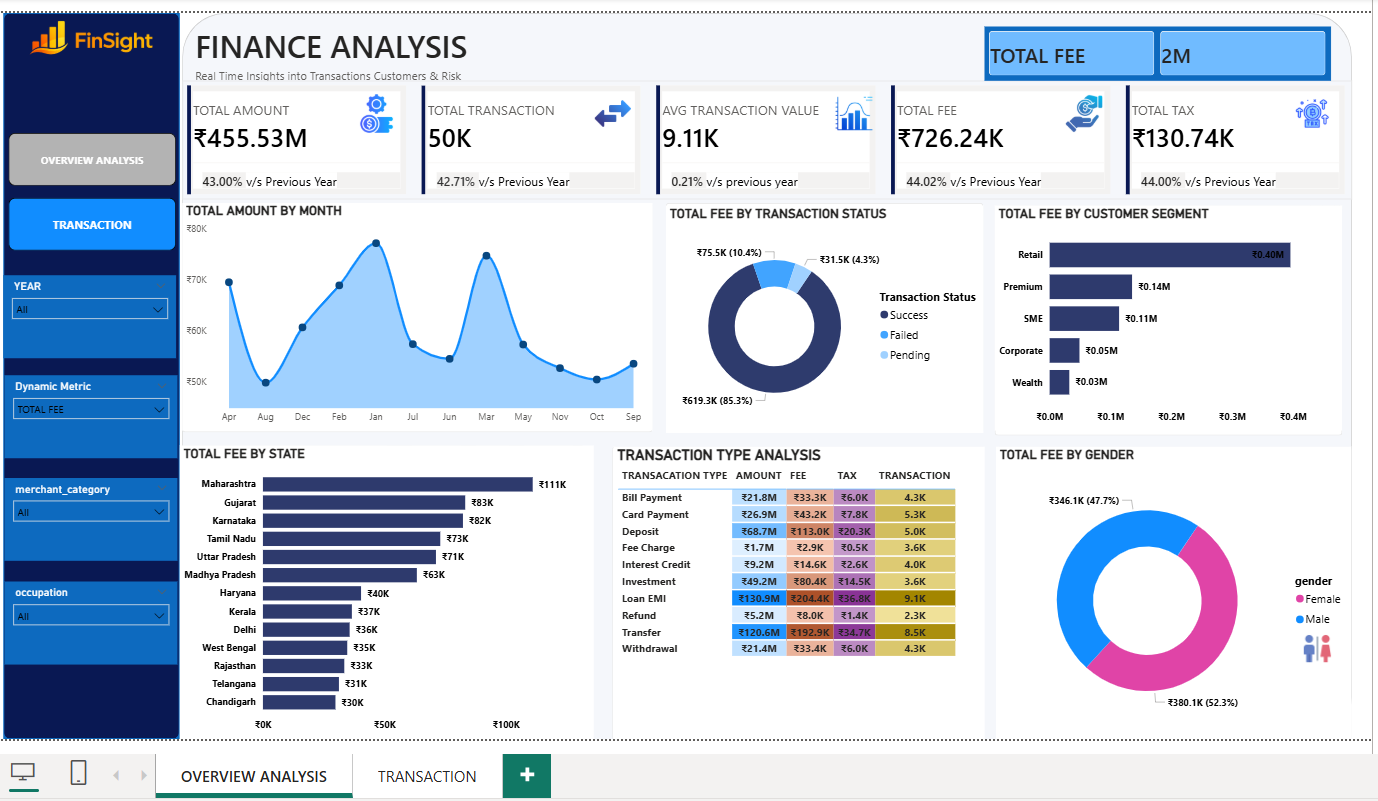

What the dashboard file says about the page in this screenshot:
{"tool":"powerbi","page":{"name":"OVERVIEW ANALYSIS","canvas":[1800,950],"ordinal":0},"visuals":[{"type":"shape","box":[9.8,0,230.6,950],"z":0},{"type":"shape","box":[243.4,0,1530,951.9],"z":1000},{"type":"image","box":[9.8,0,233.8,65.4],"z":2000},{"type":"cardVisual","fields":{"Data":["finance_transactions.DASHBOARD TITLE"]},"box":[243.6,0,614.8,106.3],"z":3000},{"type":"cardVisual","fields":{"Data":["finance_transactions.TOTAL AMOUNT","finance_transactions.TOTAL TRANSACTION","finance_transactions.AVG TRANSACTION VALUE","finance_transactions.TOTAL FEE","finance_transactions.TOTAL TAX"]},"box":[242.9,88.6,1531.4,155],"z":4000},{"type":"image","box":[472.6,106.3,50.7,50.7],"z":5000},{"type":"image","box":[781.6,106.3,50.7,50.7],"z":6000},{"type":"image","box":[1097.2,106.3,50.7,50.7],"z":7000},{"type":"image","box":[1398.1,106.3,50.7,50.7],"z":8000},{"type":"image","box":[1682.6,106.3,78.5,50.7],"z":9000},{"type":"slicer","fields":{"Values":["dynamicMetric.dynamicMetric"]},"box":[11.4,474.2,225.7,107.9],"z":10000},{"type":"shape","box":[243.6,248.5,615,300],"z":11000},{"type":"areaChart","title":"TOTAL AMOUNT BY MONTH","fields":{"Y":["finance_transactions.TOTAL FEE"],"Category":["calender table.month"]},"box":[243.6,248.5,614.8,297.6],"z":12000},{"type":"cardVisual","fields":{"Data":["Min(Dynamic Metric.DYNAMIC TITLE)","Sum(calender table.YEAR)"]},"box":[1293.4,18,452.9,70.3],"z":13000},{"type":"shape","box":[876.5,248.5,415,300.9],"z":14000},{"type":"donutChart","title":"TOTAL FEE BY TRANSACTION STATUS","fields":{"Y":["finance_transactions.TOTAL FEE"],"Category":["finance_transactions.transaction_status"]},"box":[876.5,251.8,415.3,297.6],"z":15000},{"type":"shape","box":[240.4,565.8,529.8,384.3],"z":16000},{"type":"shape","box":[1306.5,251.8,454.6,300.9],"z":17000},{"type":"barChart","title":"TOTAL FEE BY CUSTOMER SEGMENT","fields":{"Y":["finance_transactions.TOTAL FEE"],"Category":["customers.customer_segment"]},"box":[1306.5,251.8,454.6,294.3],"z":18000},{"type":"barChart","title":"TOTAL FEE BY STATE","fields":{"Y":["finance_transactions.TOTAL FEE"],"Category":["customers.state"]},"box":[240.4,565.8,541.2,384.3],"z":19000},{"type":"shape","box":[1308.9,567.9,465.1,384],"z":20000},{"type":"shape","box":[805.9,567.9,486.8,384],"z":21000},{"type":"tableEx","title":"TRANSACTION TYPE ANALYSIS","fields":{"Values":["finance_transactions.transaction_type","finance_transactions.TOTAL AMOUNT","finance_transactions.TOTAL FEE","finance_transactions.TOTAL TAX","finance_transactions.TOTAL TRANSACTION"]},"box":[807.8,567.4,485.6,382.6],"z":22000},{"type":"donutChart","title":"TOTAL FEE BY GENDER","fields":{"Y":["finance_transactions.TOTAL FEE"],"Category":["customers.gender"]},"box":[1308.9,567.9,465.1,384],"z":23000},{"type":"image","box":[1684.2,811,88.3,40.9],"z":24000},{"type":"slicer","fields":{"Values":["finance_transactions.merchant_category"]},"box":[11.4,608.3,225.7,107.9],"z":25000},{"type":"slicer","fields":{"Values":["customers.occupation"]},"box":[11.4,744,225.7,107.9],"z":26000},{"type":"slicer","fields":{"Values":["calender table.YEAR"]},"box":[9.8,343.4,225.7,107.9],"z":27000},{"type":"pageNavigator","box":[16.4,157,219.1,155.3],"z":28000}]}

Visuals, with their boxes on the page's 1800x950 design canvas (x1, y1, x2, y2). These are canvas units, not pixel positions in the 1378x801 screenshot, which may show the page scaled, cropped or inside an application window:
shape: <bbox>10, 0, 240, 950</bbox>
shape: <bbox>243, 0, 1773, 952</bbox>
image: <bbox>10, 0, 244, 65</bbox>
cardVisual - finance_transactions.DASHBOARD TITLE: <bbox>244, 0, 858, 106</bbox>
cardVisual - finance_transactions.TOTAL AMOUNT x finance_transactions.TOTAL TRANSACTION: <bbox>243, 89, 1774, 244</bbox>
image: <bbox>473, 106, 523, 157</bbox>
image: <bbox>782, 106, 832, 157</bbox>
image: <bbox>1097, 106, 1148, 157</bbox>
image: <bbox>1398, 106, 1449, 157</bbox>
image: <bbox>1683, 106, 1761, 157</bbox>
slicer - dynamicMetric.dynamicMetric: <bbox>11, 474, 237, 582</bbox>
shape: <bbox>244, 248, 859, 548</bbox>
"TOTAL AMOUNT BY MONTH" areaChart: <bbox>244, 248, 858, 546</bbox>
cardVisual - Min(Dynamic Metric.DYNAMIC TITLE) x Sum(calender table.YEAR): <bbox>1293, 18, 1746, 88</bbox>
shape: <bbox>876, 248, 1292, 549</bbox>
"TOTAL FEE BY TRANSACTION STATUS" donutChart: <bbox>876, 252, 1292, 549</bbox>
shape: <bbox>240, 566, 770, 950</bbox>
shape: <bbox>1306, 252, 1761, 553</bbox>
"TOTAL FEE BY CUSTOMER SEGMENT" barChart: <bbox>1306, 252, 1761, 546</bbox>
"TOTAL FEE BY STATE" barChart: <bbox>240, 566, 782, 950</bbox>
shape: <bbox>1309, 568, 1774, 952</bbox>
shape: <bbox>806, 568, 1293, 952</bbox>
"TRANSACTION TYPE ANALYSIS" tableEx: <bbox>808, 567, 1293, 950</bbox>
"TOTAL FEE BY GENDER" donutChart: <bbox>1309, 568, 1774, 952</bbox>
image: <bbox>1684, 811, 1772, 852</bbox>
slicer - finance_transactions.merchant_category: <bbox>11, 608, 237, 716</bbox>
slicer - customers.occupation: <bbox>11, 744, 237, 852</bbox>
slicer - calender table.YEAR: <bbox>10, 343, 236, 451</bbox>
pageNavigator: <bbox>16, 157, 236, 312</bbox>
